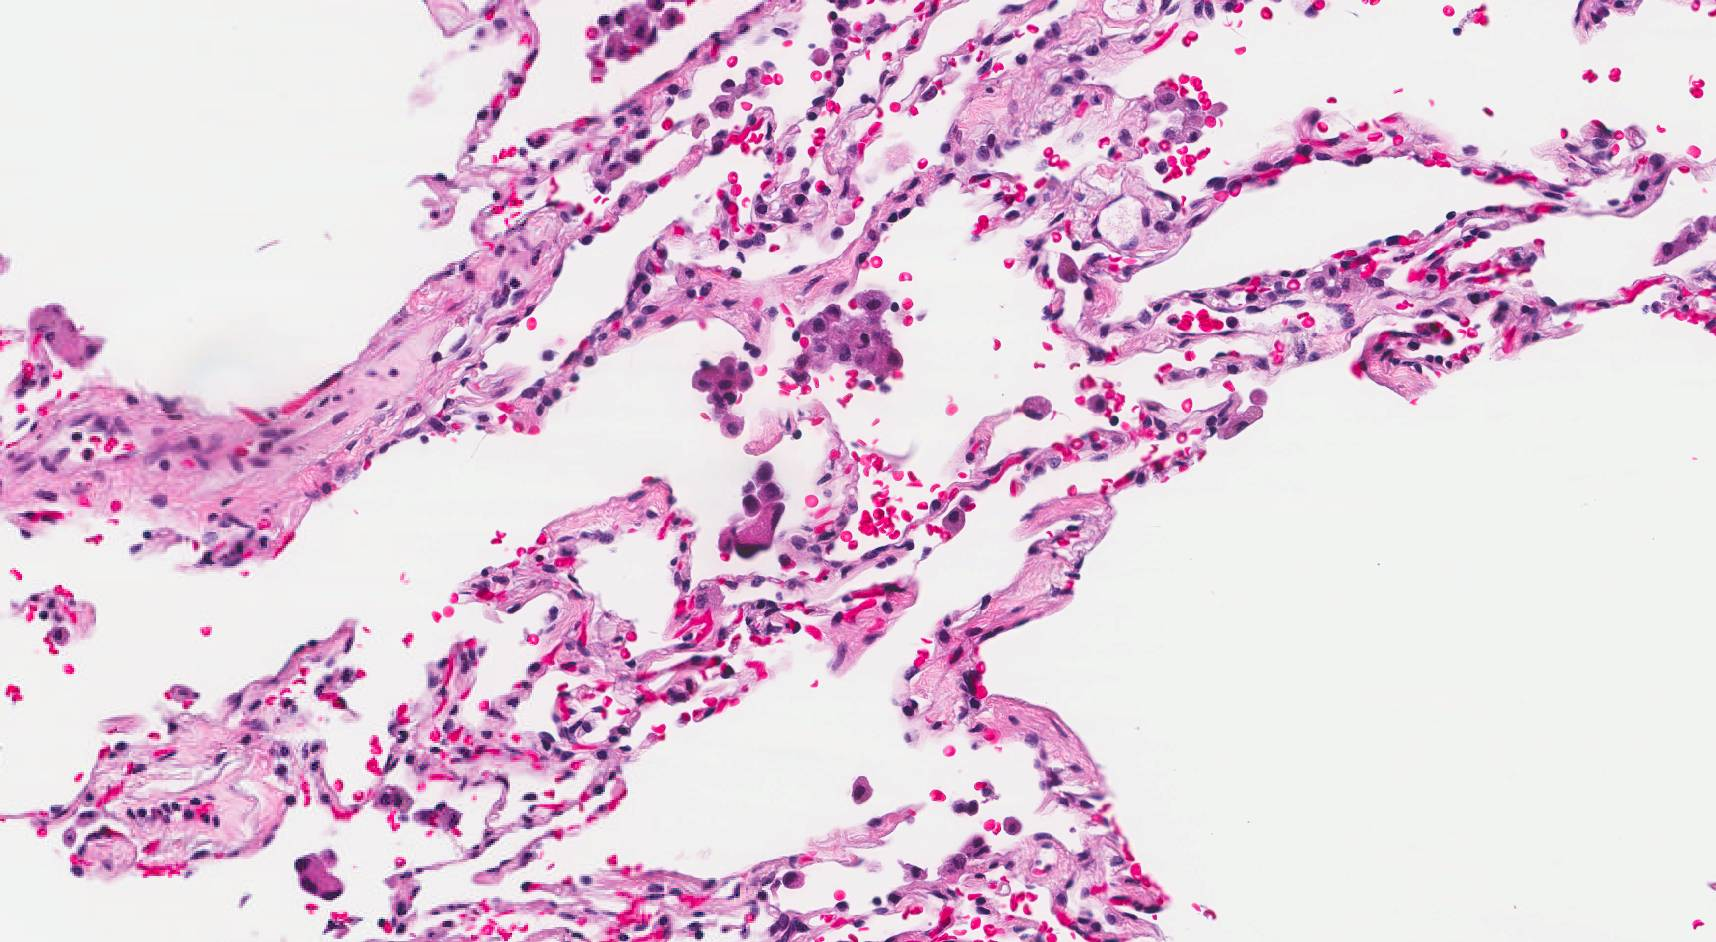stas: (719, 458, 788, 560), (288, 848, 347, 899)
